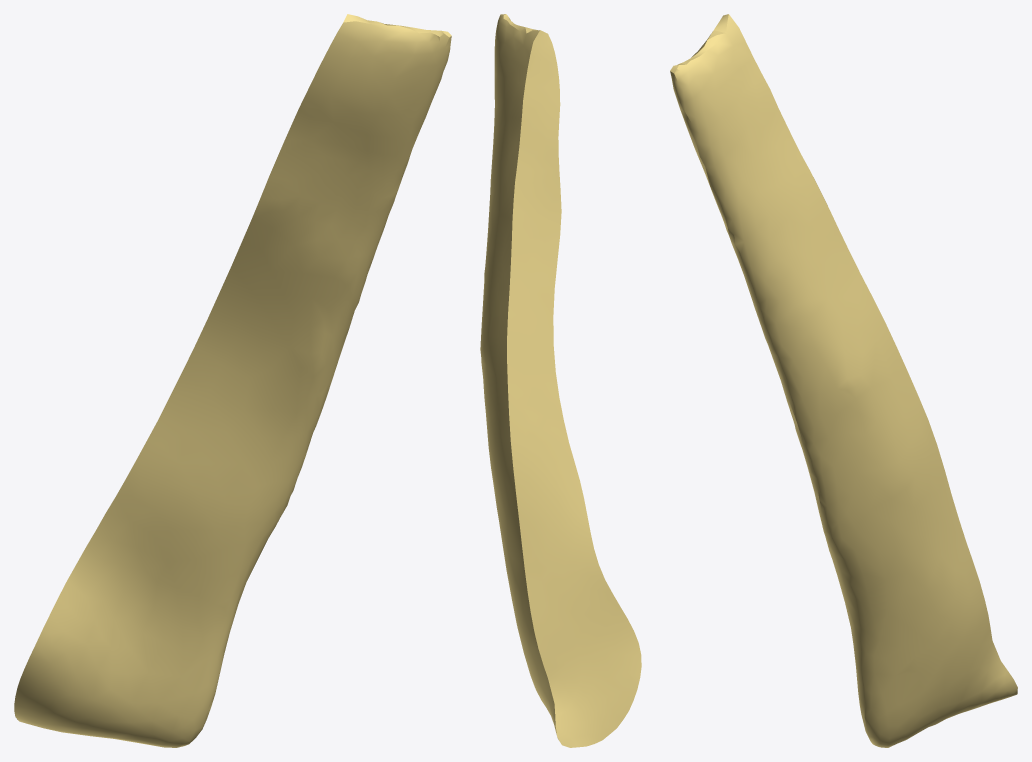
Rendered from fma73582_mm3540m.glb.
3 renders of one model, left to right at view 1: azimuth 30°, elevation 25°; view 2: azimuth 150°, elevation 25°; view 3: azimuth 270°, elevation 25°, orthographic. The views are drawn at different scales.
Visible parts, largest first — view 1: FMA73582_MM3540M; view 2: FMA73582_MM3540M; view 3: FMA73582_MM3540M.
Boxes of the visible parts, left/top/right/bottom form: FMA73582_MM3540M: left=14, top=14, right=451, bottom=747; FMA73582_MM3540M: left=480, top=14, right=641, bottom=747; FMA73582_MM3540M: left=670, top=14, right=1017, bottom=747.
Size of the model in its own units: 0.00456 by 0.011 by 0.00444.
